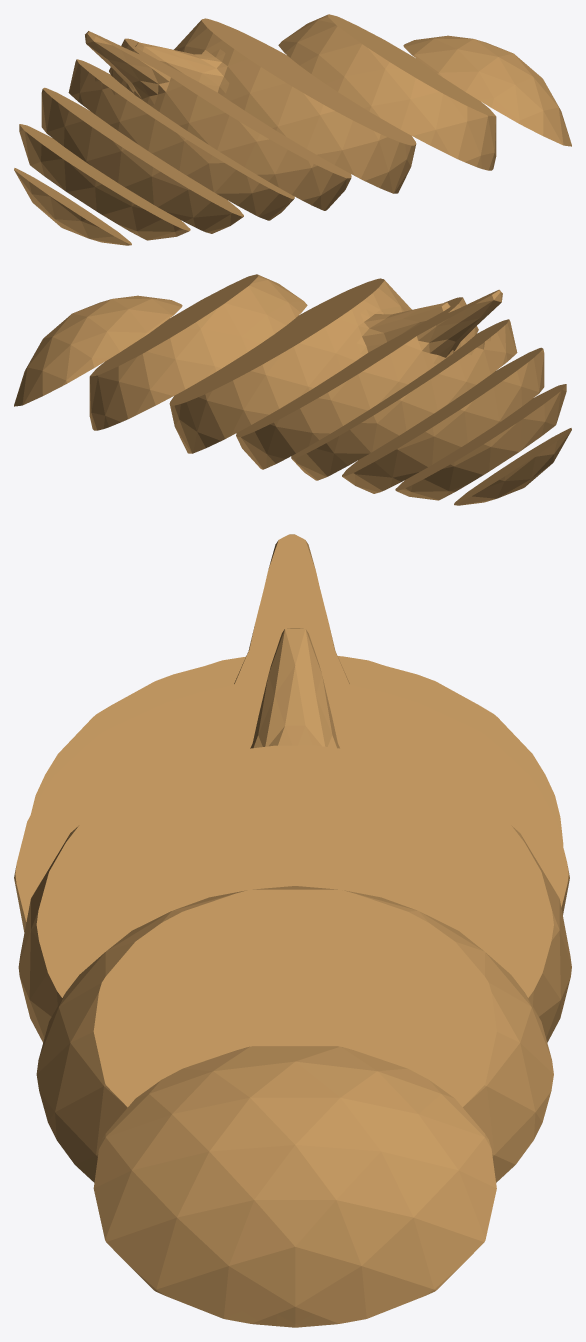
The model's file is chopped onion.glb.
The picture shows the model from 3 angles, top to bottom: view 1: azimuth 30°, elevation 25°; view 2: azimuth 150°, elevation 25°; view 3: azimuth 270°, elevation 25°; orthographic projection. The views are drawn at different scales.
Parts seen in each view (by area): view 1: Icosphere; view 2: Icosphere; view 3: Icosphere.
Part boxes in pixels (x1=…): Icosphere: x1=14, y1=14, x2=571, y2=245; Icosphere: x1=14, y1=274, x2=571, y2=505; Icosphere: x1=14, y1=534, x2=571, y2=1327.
Size of the model in its own units: 3.97 by 1.52 by 2.01.
